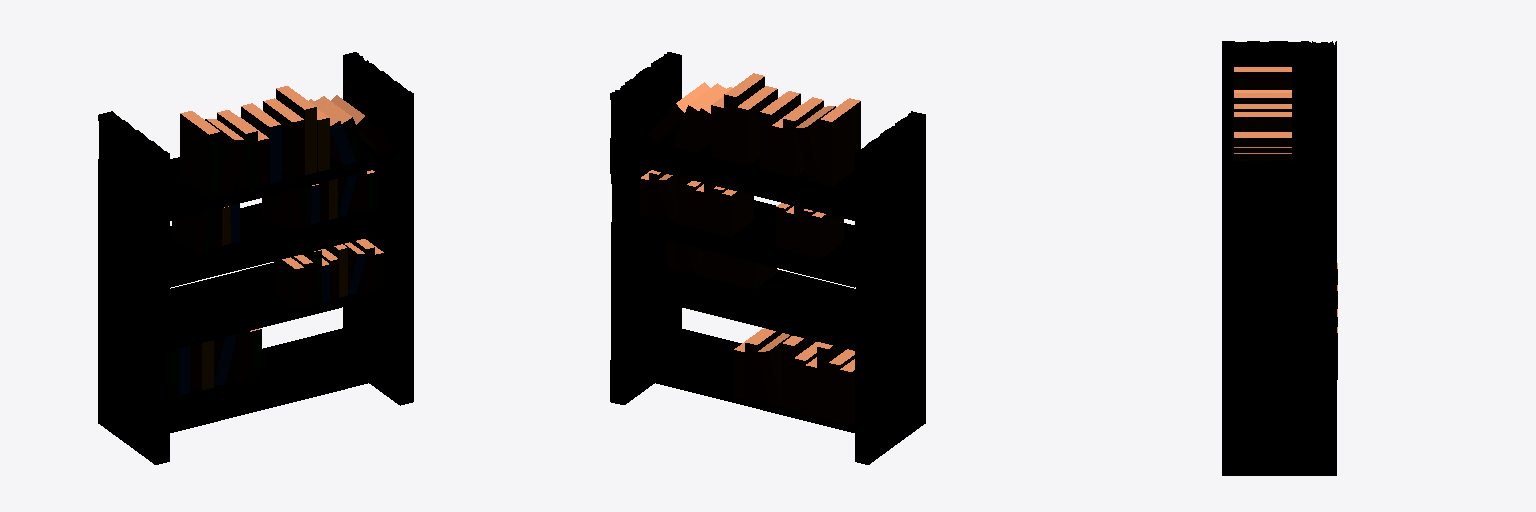
The model's file is Old_Bookshelf_WithBooks.obj.
3 renders of one model, left to right at view 1: azimuth 30°, elevation 25°; view 2: azimuth 150°, elevation 25°; view 3: azimuth 270°, elevation 25°, orthographic.
Visible parts, largest first — view 1: OldBS; view 2: OldBS; view 3: OldBS.
Part boxes in pixels (x1,y1,x2,y2): OldBS: (98,52,413,464); OldBS: (610,52,925,464); OldBS: (1222,41,1337,475).
Bounding box in the file's own units: 5.11 × 5.93 × 1.97.